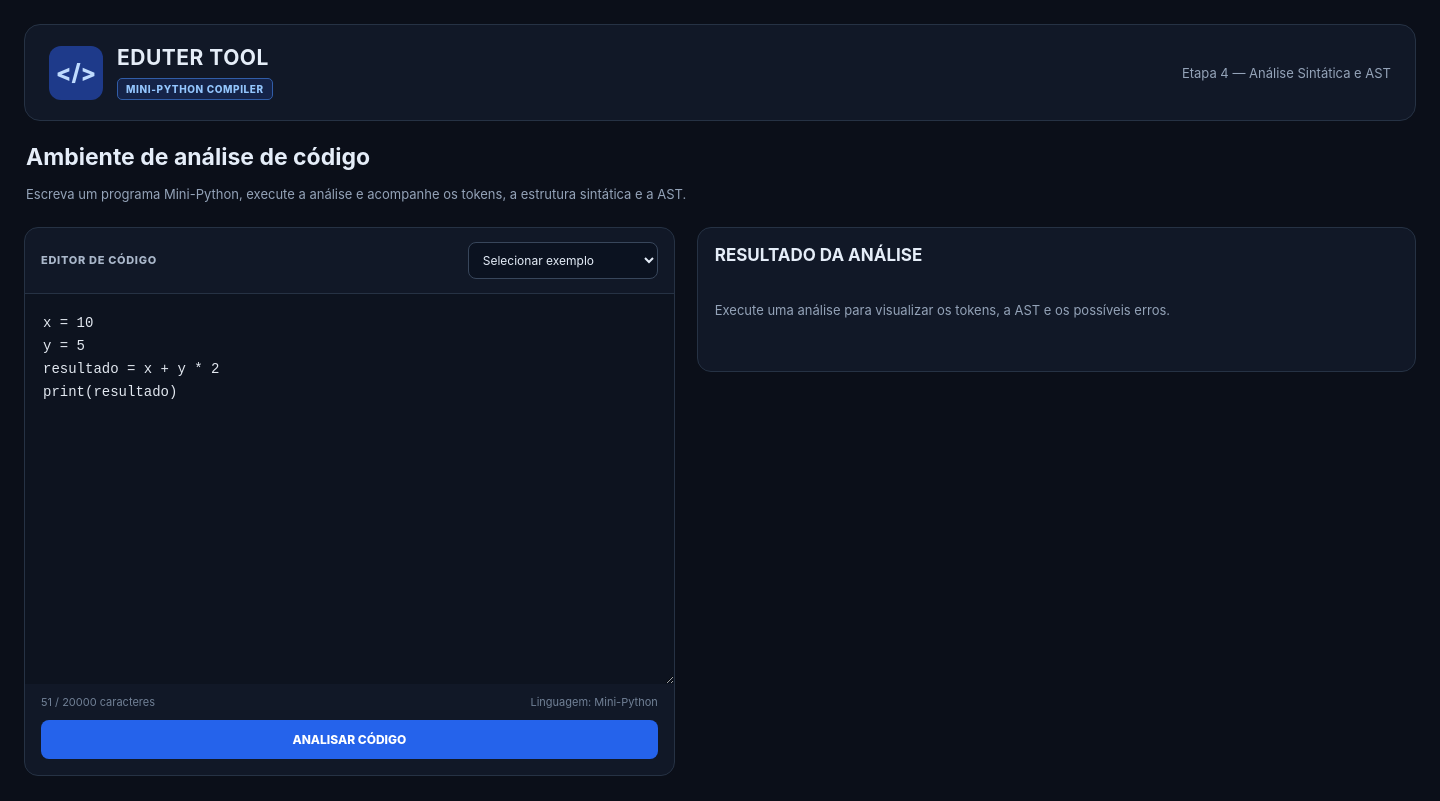
Test: exibe erro sintático com linha e coluna
The image size is (1440, 801).
Step 1. Click the button "ANALISAR CÓDIGO" → (349, 739), box left=41, top=720, right=658, bottom=759
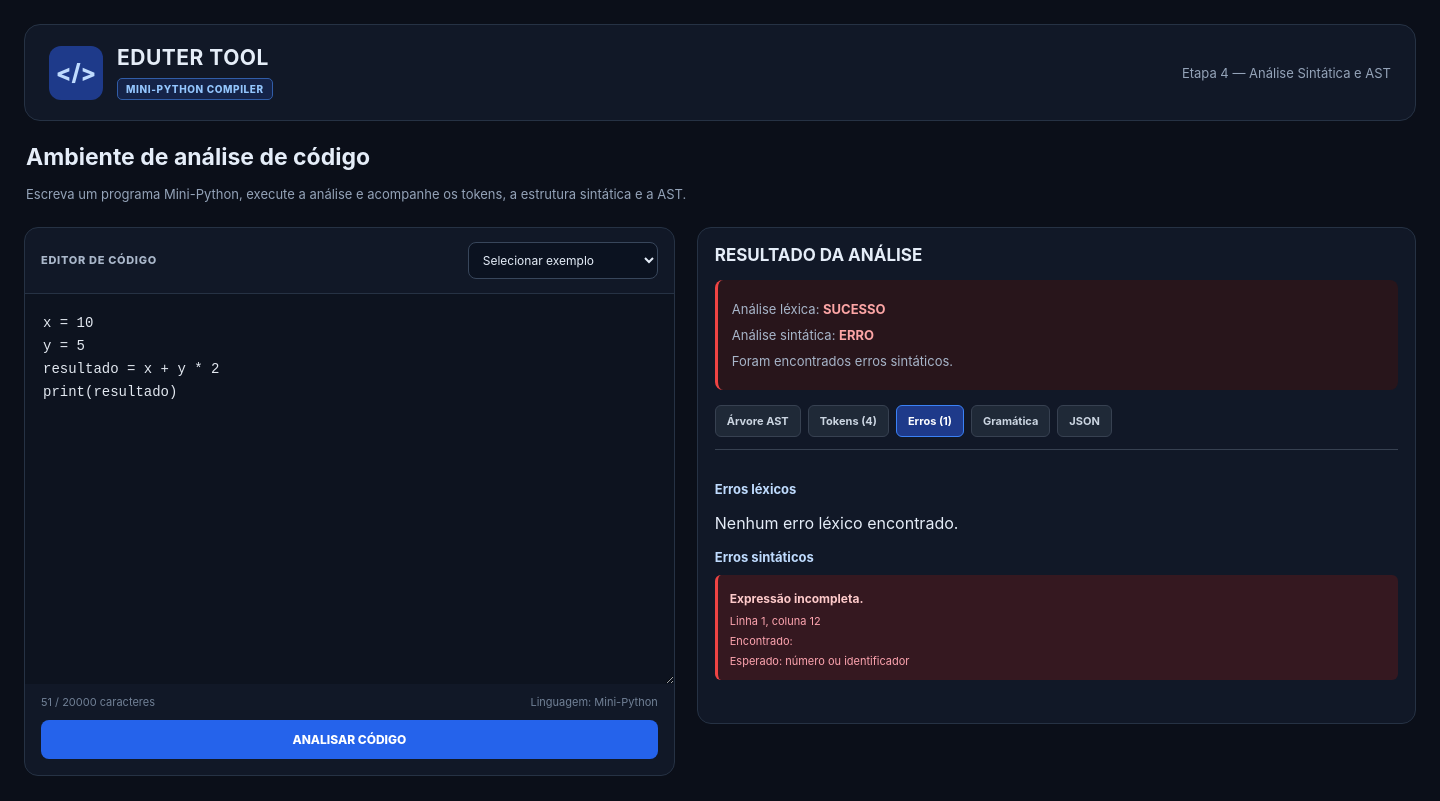
Now the text "Expressão incompleta." is shown, box left=730, top=591, right=864, bottom=606
Now the text "Linha 1, coluna 12" is shown, box left=730, top=614, right=821, bottom=628
Now the text "Esperado: número ou identificador" is shown, box left=730, top=654, right=910, bottom=668
